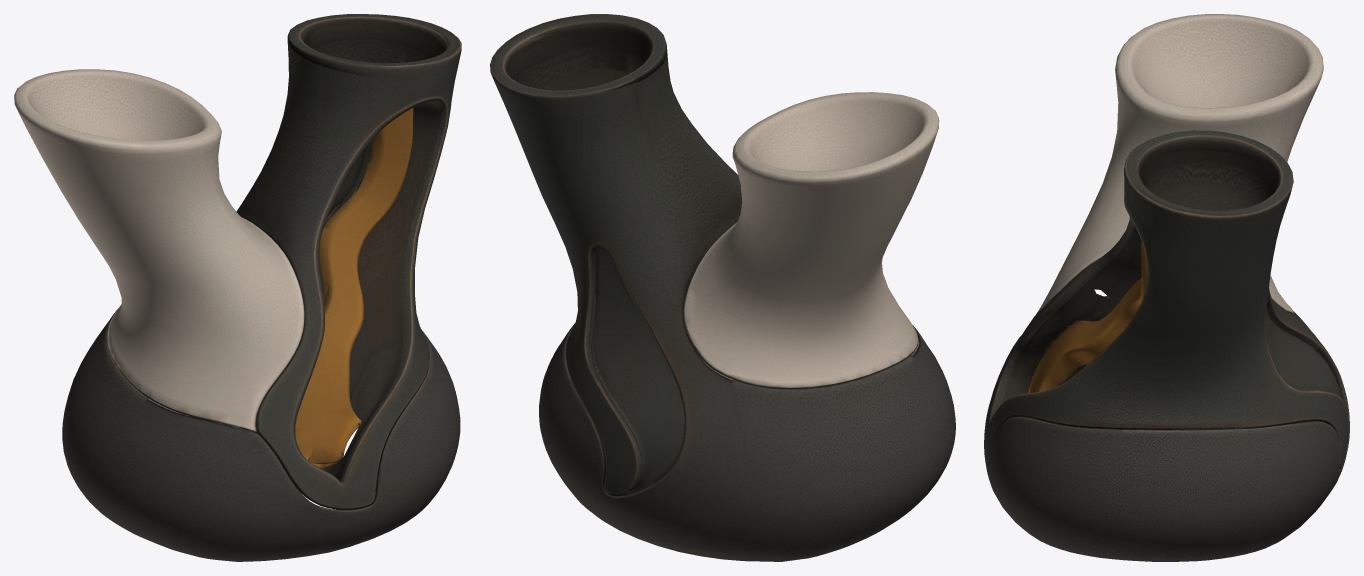
The model's file is two-whys-vessel.glb.
3 renders of one model, left to right at view 1: azimuth 30°, elevation 25°; view 2: azimuth 150°, elevation 25°; view 3: azimuth 270°, elevation 25°, orthographic. The views are drawn at different scales.
Parts seen in each view (by area): view 1: tripo_62a7e103_6f23_4b3c_a58c_5905e779ef50; view 2: tripo_62a7e103_6f23_4b3c_a58c_5905e779ef50; view 3: tripo_62a7e103_6f23_4b3c_a58c_5905e779ef50.
Part boxes in pixels (left/top/right/bottom): tripo_62a7e103_6f23_4b3c_a58c_5905e779ef50: left=14, top=14, right=461, bottom=561; tripo_62a7e103_6f23_4b3c_a58c_5905e779ef50: left=490, top=14, right=955, bottom=561; tripo_62a7e103_6f23_4b3c_a58c_5905e779ef50: left=984, top=14, right=1349, bottom=561.
Size of the model in its own units: 0.9995 by 0.9995 by 0.7896.
1 material, 1 textured.
